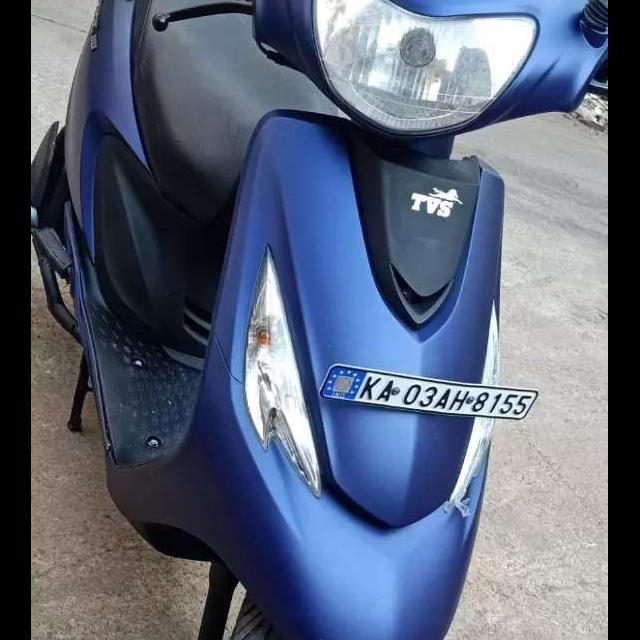Indian_Number_Plate: (320, 367, 537, 423)
